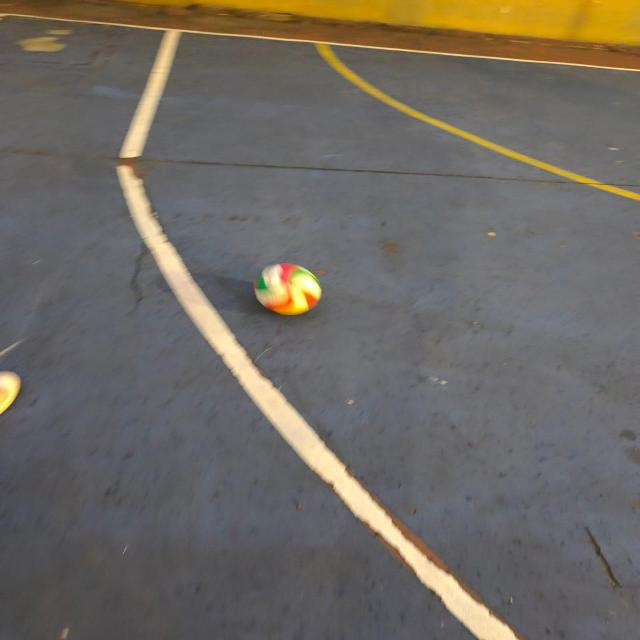volleyball: (254, 263, 322, 315)
